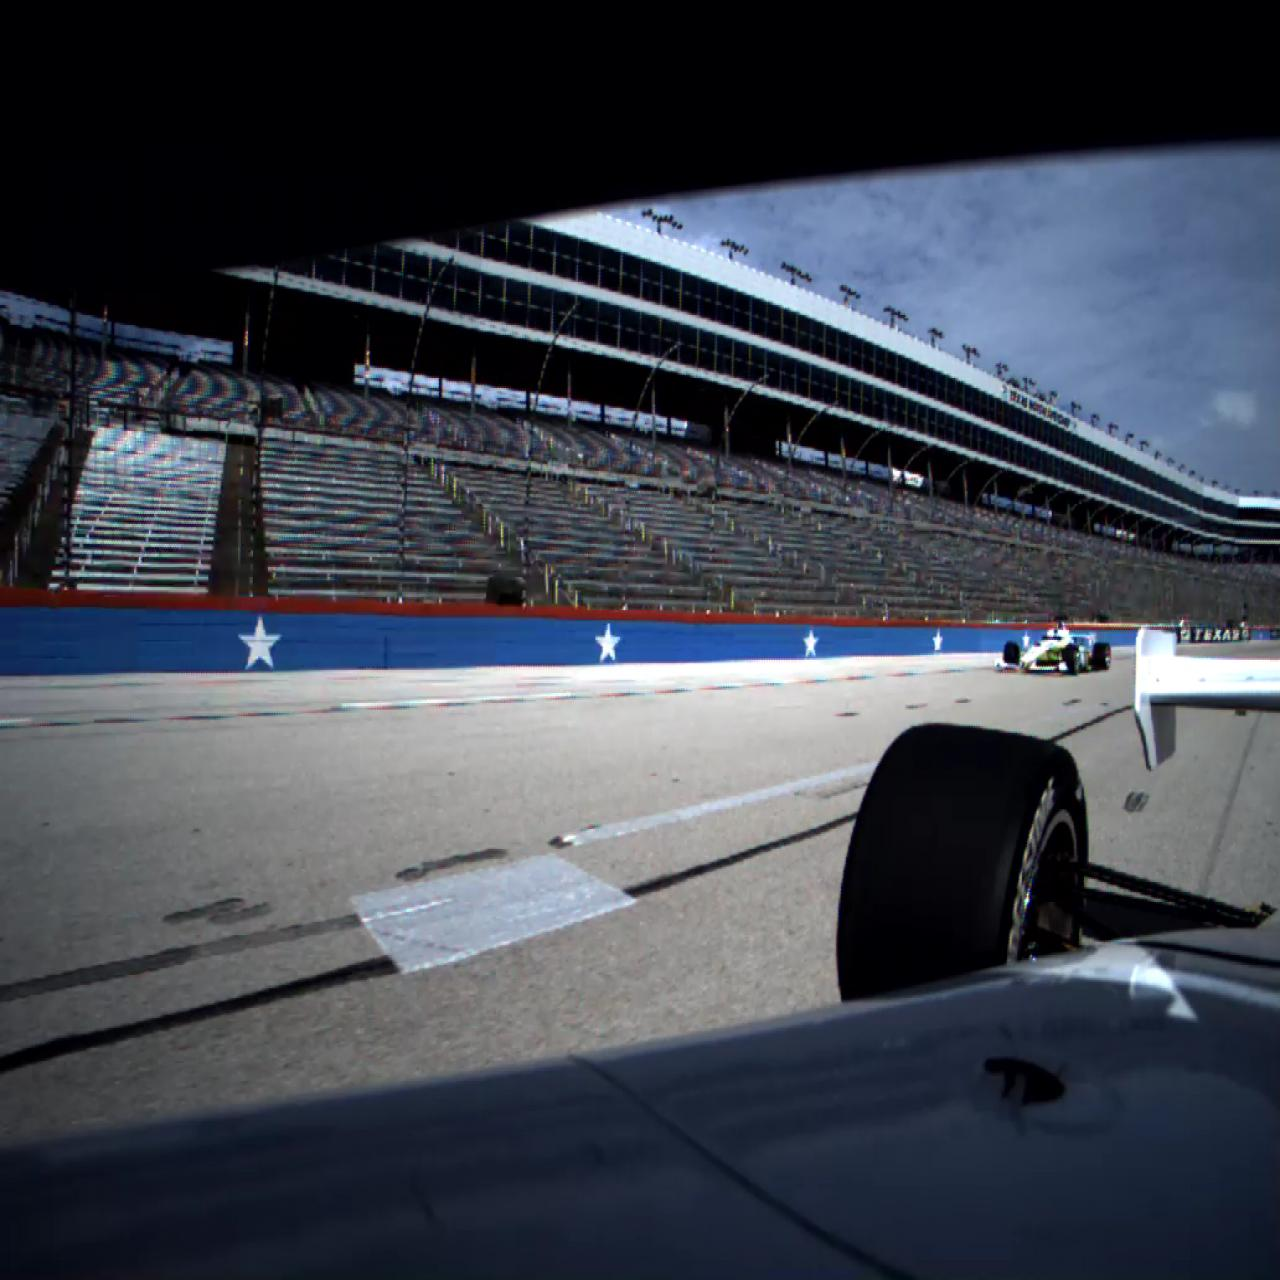AV: (995, 615, 1111, 675)
Wheel: (837, 723, 1089, 1006), (1092, 641, 1111, 670), (1002, 640, 1020, 667), (1065, 644, 1080, 675)
